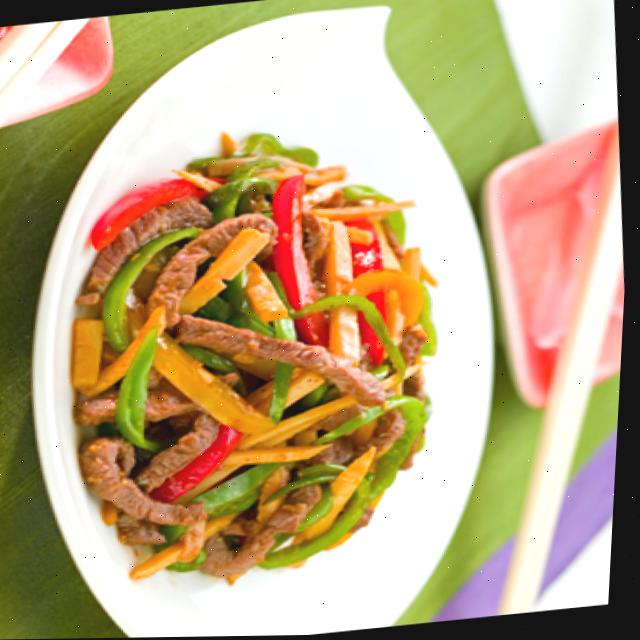牛肉菜式: (0, 0, 526, 640)
